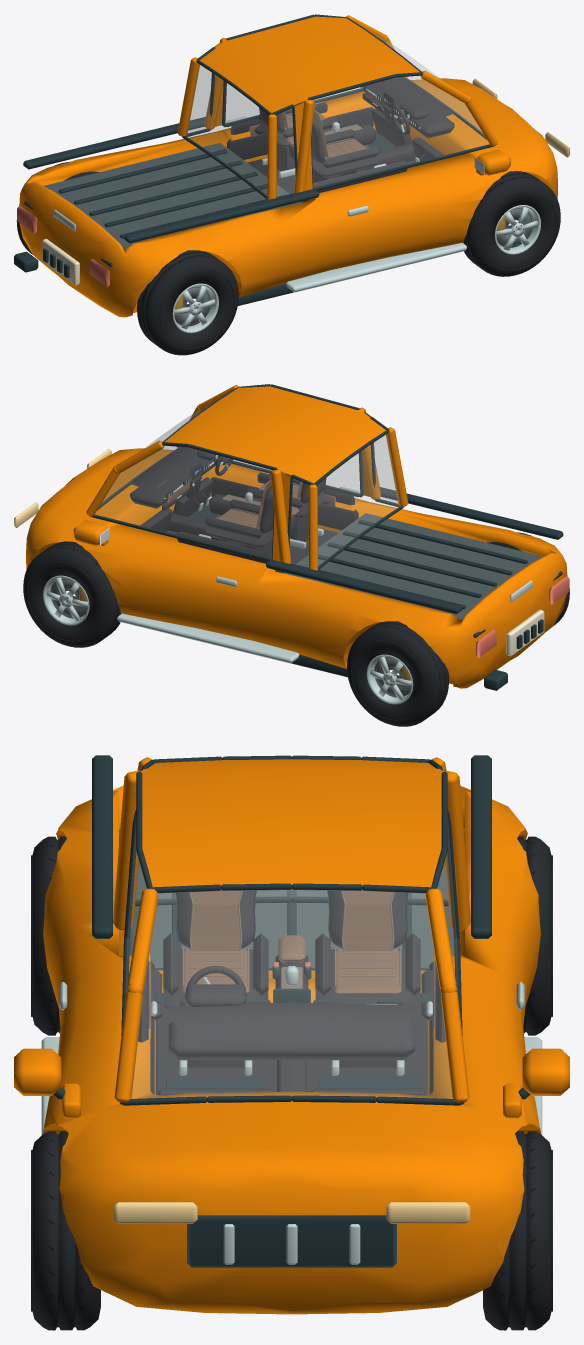
File: pickup.glb
The picture shows the model from 3 angles, top to bottom: view 1: azimuth 30°, elevation 25°; view 2: azimuth 150°, elevation 25°; view 3: azimuth 270°, elevation 25°; orthographic projection. The views are drawn at different scales.
Visible parts, largest first — view 1: Paint pickup, Automotive glass.002, Rolling wheels.002, Tyre rubber.002, Cabin upholstery.002, Pickup bed, Wheel hubs.002, Tailored cabin leather.002, Tail lamp.002, Warm white trim.002, Headlamp.002; view 2: Paint pickup, Automotive glass.002, Rolling wheels.002, Tyre rubber.002, Cabin upholstery.002, Pickup bed, Wheel hubs.002, Tailored cabin leather.002, Warm white trim.002, Tail lamp.002, Headlamp.002; view 3: Paint pickup, Automotive glass.002, Cabin upholstery.002, Tyre rubber.002, Rolling wheels.002, Tailored cabin leather.002, Pickup bed, Wheel hubs.002, Headlamp.002, Seat stitching and console.002.
Part boxes in pixels (x1,y1,x2,y2): Paint pickup: [19, 15, 557, 317]; Automotive glass.002: [185, 32, 488, 196]; Rolling wheels.002: [16, 161, 560, 355]; Tyre rubber.002: [14, 14, 511, 306]; Cabin upholstery.002: [227, 77, 457, 202]; Pickup bed: [44, 143, 301, 249]; Wheel hubs.002: [53, 86, 466, 292]; Tailored cabin leather.002: [249, 90, 387, 159]; Tail lamp.002: [17, 205, 109, 286]; Warm white trim.002: [42, 115, 408, 285]; Headlamp.002: [472, 78, 569, 157]; Paint pickup: [26, 385, 567, 688]; Automotive glass.002: [95, 402, 400, 567]; Rolling wheels.002: [23, 532, 569, 726]; Tyre rubber.002: [72, 384, 563, 690]; Cabin upholstery.002: [127, 447, 358, 573]; Pickup bed: [283, 513, 542, 619]; Wheel hubs.002: [117, 455, 532, 663]; Tailored cabin leather.002: [167, 471, 335, 529]; Warm white trim.002: [217, 456, 544, 656]; Tail lamp.002: [476, 576, 569, 657]; Headlamp.002: [14, 448, 111, 527]; Paint pickup: [14, 757, 569, 1314]; Automotive glass.002: [126, 827, 457, 1098]; Cabin upholstery.002: [138, 890, 445, 1095]; Tyre rubber.002: [53, 755, 530, 1267]; Rolling wheels.002: [31, 836, 552, 1330]; Tailored cabin leather.002: [148, 890, 435, 1037]; Pickup bed: [129, 864, 454, 970]; Wheel hubs.002: [41, 966, 542, 1264]; Headlamp.002: [113, 1202, 470, 1223]; Seat stitching and console.002: [182, 890, 401, 1005].
Size of the model in its own units: 1.95 by 0.8183 by 1.06.
